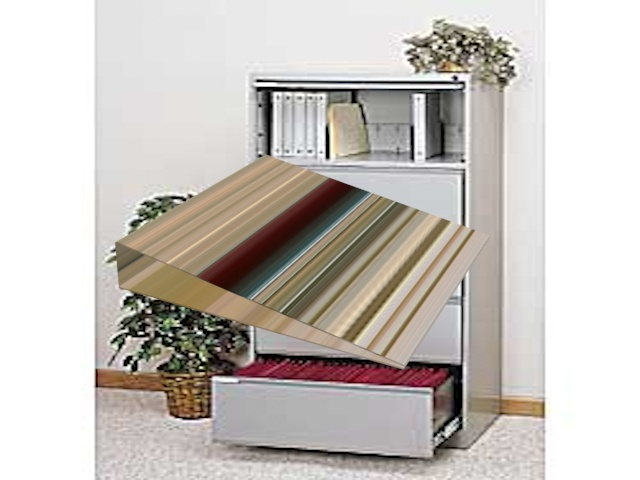ring_binder: (112, 144, 496, 378)
